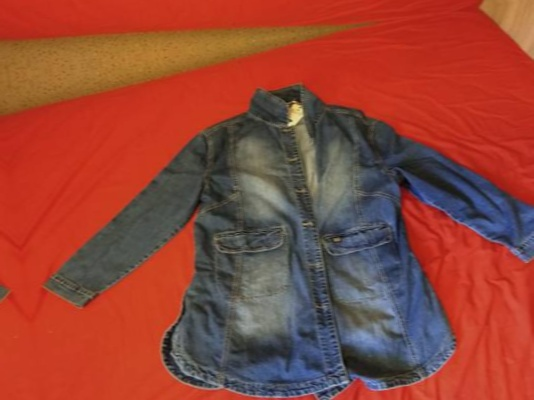Blazer: (29, 54, 534, 400), (0, 0, 529, 19), (78, 386, 534, 400), (0, 137, 24, 400)
